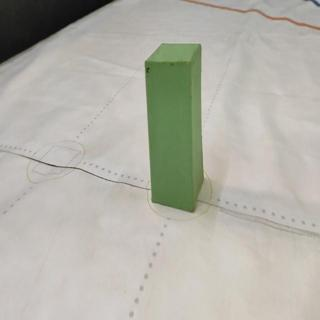greenbox: (144, 42, 204, 212)
